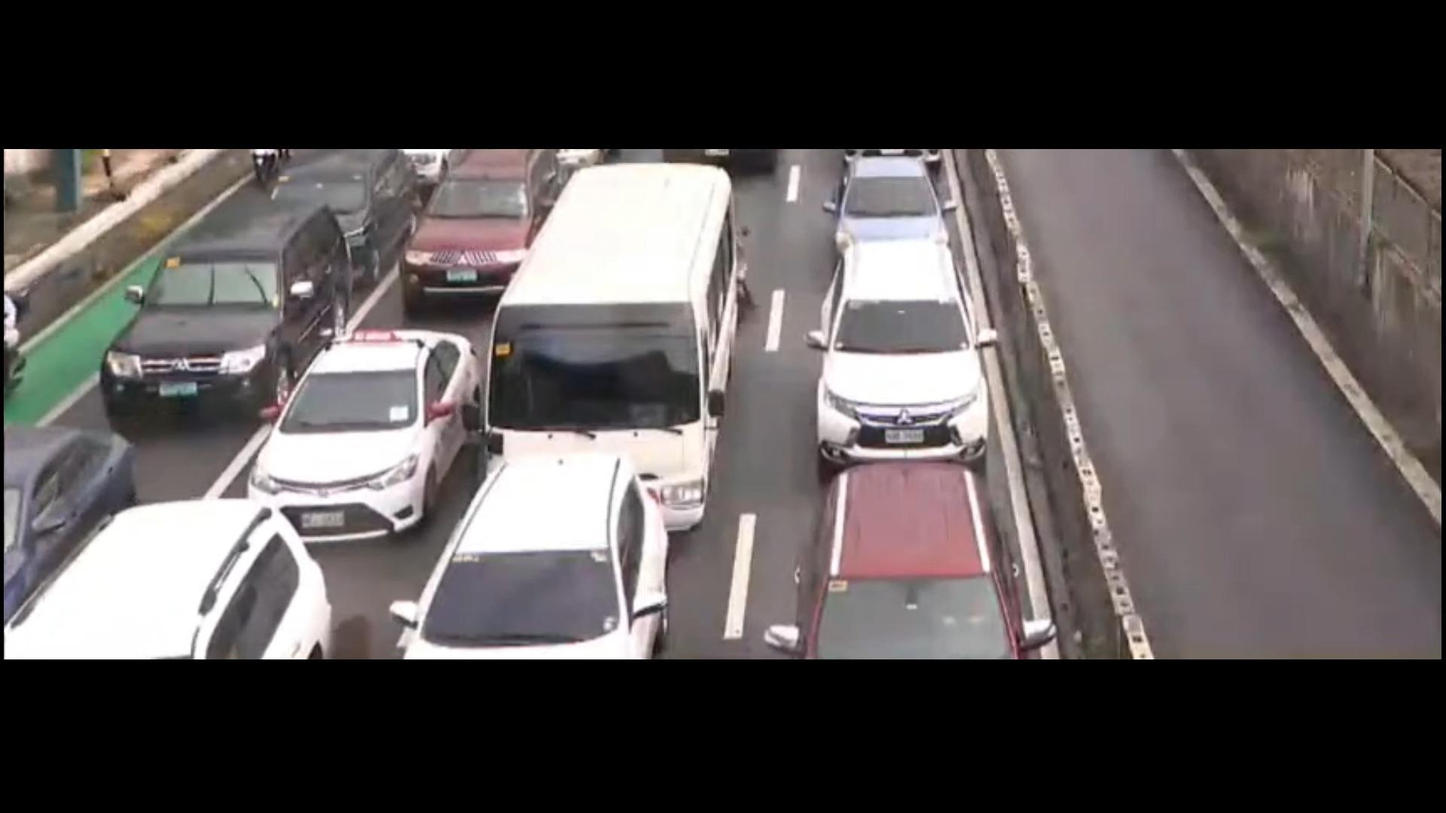SUV: (0, 494, 337, 673), (108, 201, 347, 425), (400, 463, 661, 663), (800, 467, 1046, 660), (809, 246, 993, 462), (402, 147, 561, 294)
Sedan: (241, 336, 487, 542), (0, 419, 161, 614), (831, 155, 948, 279)
Van: (485, 165, 742, 535)
